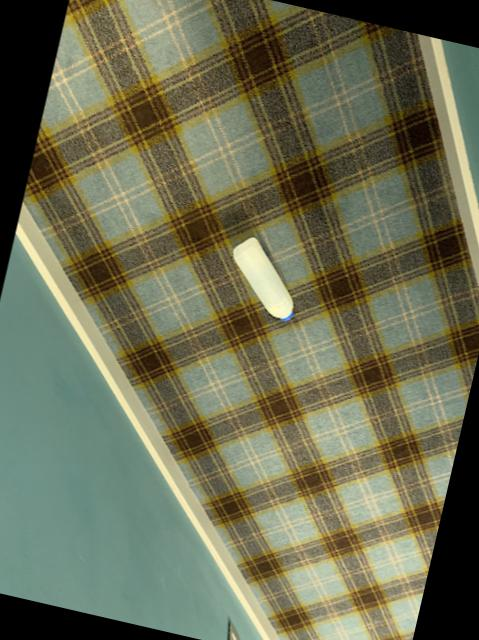plastic: (231, 237, 291, 318)
